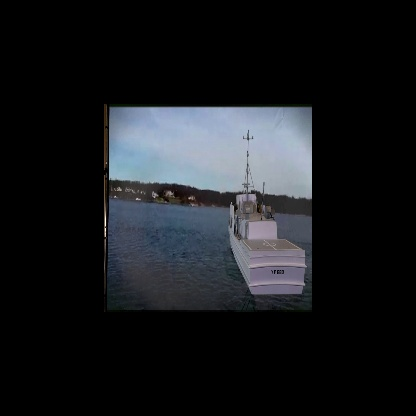YP689: (228, 130, 307, 295)
